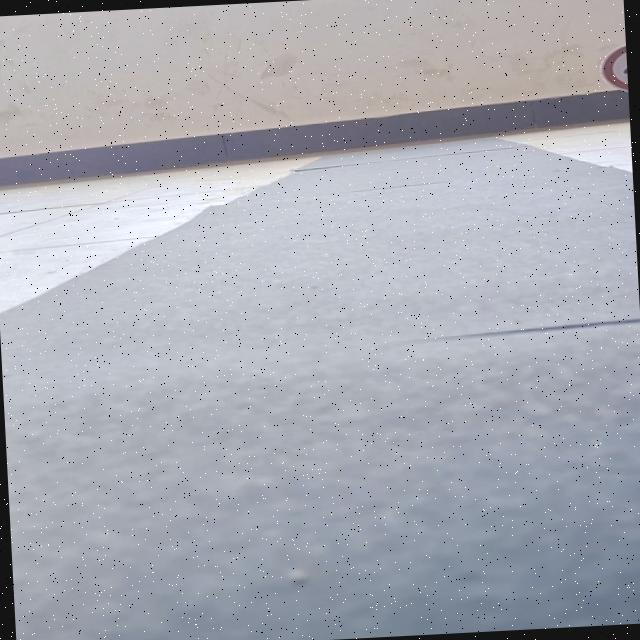Speed40: (596, 38, 628, 96)
